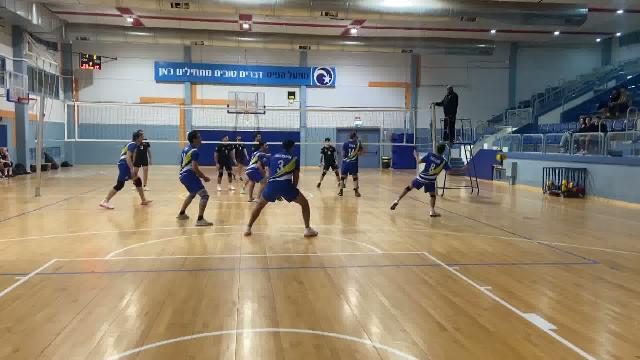ball: (494, 152, 510, 165)
